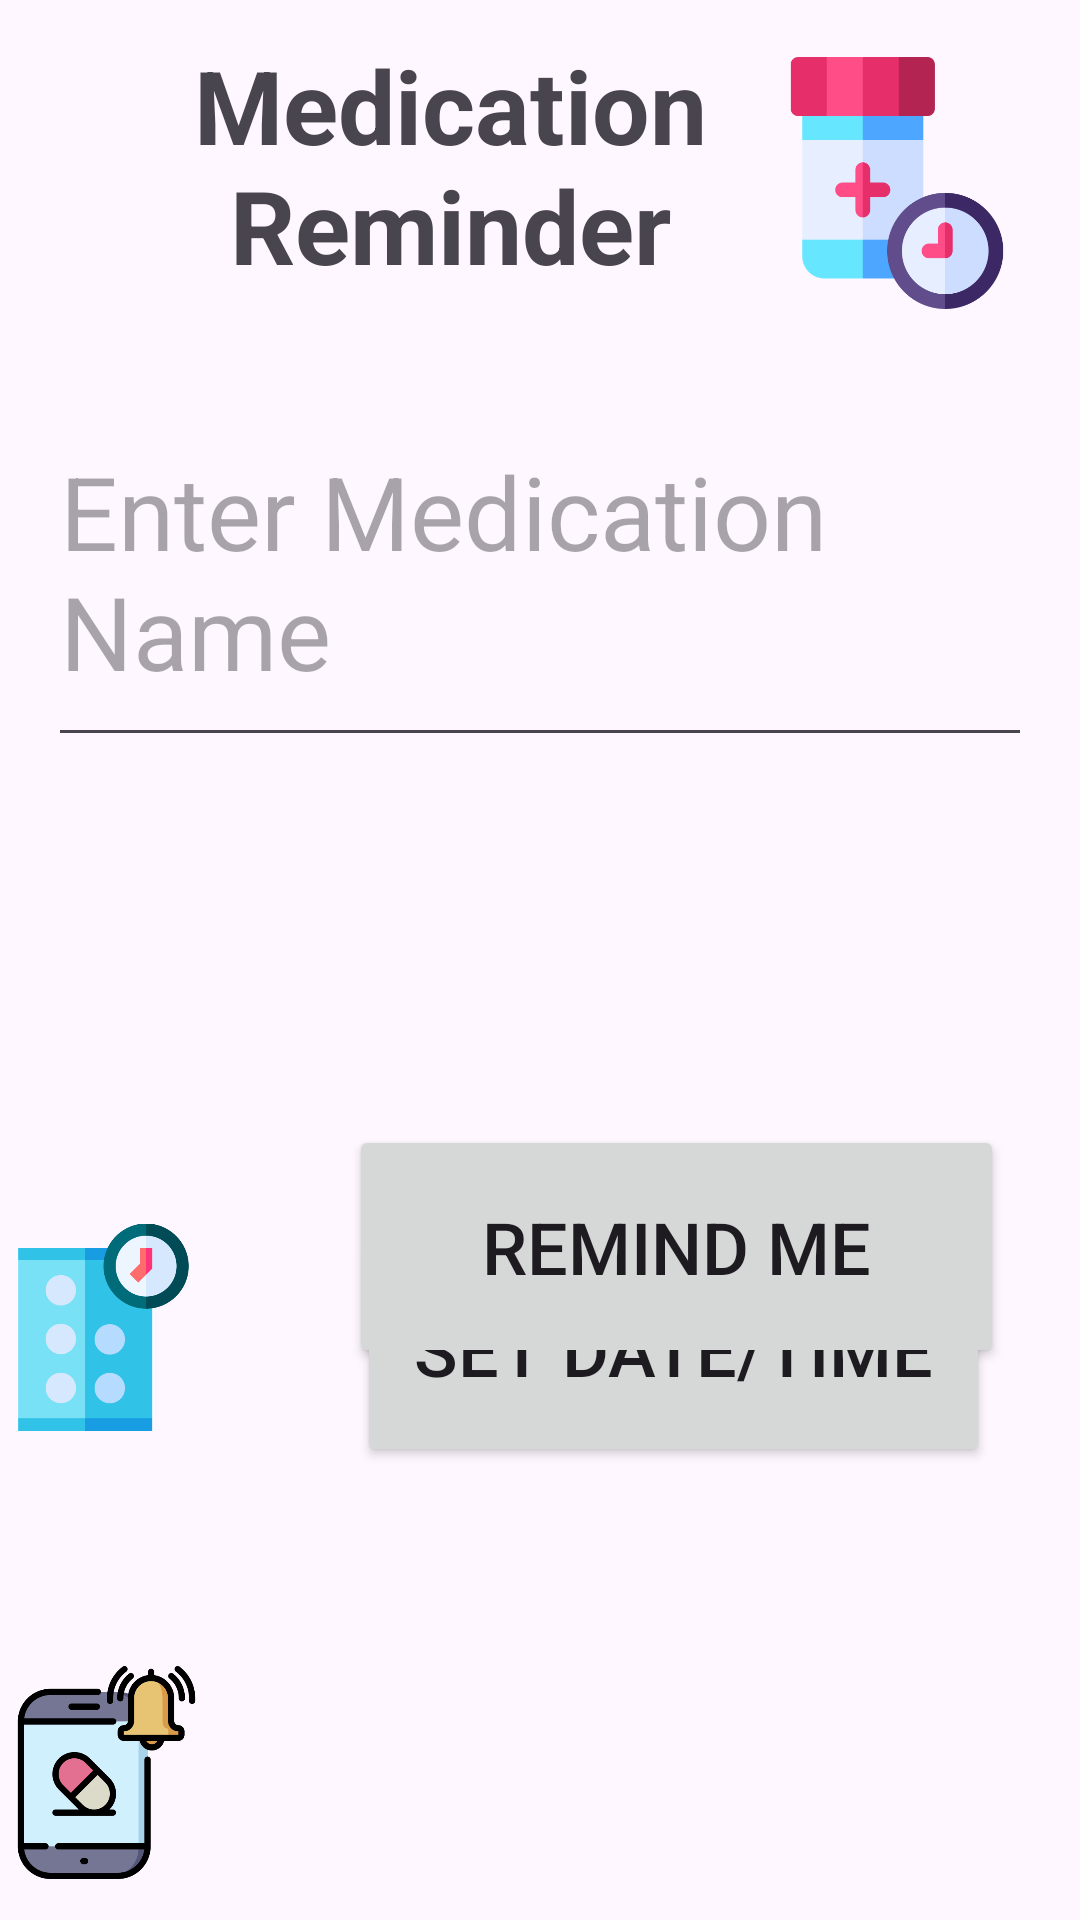

Screen size 1080*1920. Icon name, then its center in pixels as point (x, y):
medicine reminder: point (897, 183)
reminder: point (106, 1772)
set timer: point (103, 1327)
